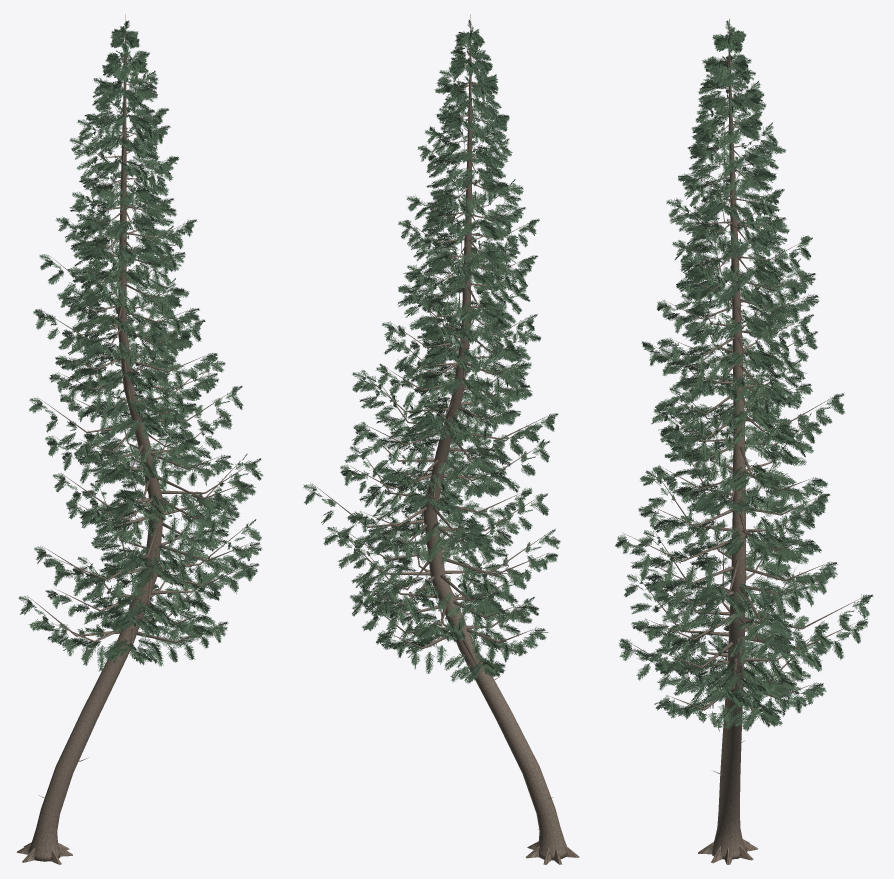
The model's file is SS_Defect_Bent_PostMature_02_LOD1.fbx.
3 renders of one model, left to right at view 1: azimuth 30°, elevation 25°; view 2: azimuth 150°, elevation 25°; view 3: azimuth 270°, elevation 25°, orthographic. The views are drawn at different scales.
Parts seen in each view (by area): view 1: SS_Defect_Bent_PostMature_02_LOD1_Foliage, SS_Defect_Bent_PostMature_02_LOD1_Trunk, SS_Defect_Bent_PostMature_02_LOD1_Branches; view 2: SS_Defect_Bent_PostMature_02_LOD1_Foliage, SS_Defect_Bent_PostMature_02_LOD1_Trunk, SS_Defect_Bent_PostMature_02_LOD1_Branches; view 3: SS_Defect_Bent_PostMature_02_LOD1_Foliage, SS_Defect_Bent_PostMature_02_LOD1_Branches, SS_Defect_Bent_PostMature_02_LOD1_Trunk.
Part boxes in pixels (x1=…): SS_Defect_Bent_PostMature_02_LOD1_Foliage: x1=18, y1=20, x2=263, y2=671; SS_Defect_Bent_PostMature_02_LOD1_Trunk: x1=16, y1=14, x2=164, y2=864; SS_Defect_Bent_PostMature_02_LOD1_Branches: x1=27, y1=36, x2=254, y2=798; SS_Defect_Bent_PostMature_02_LOD1_Foliage: x1=303, y1=20, x2=560, y2=683; SS_Defect_Bent_PostMature_02_LOD1_Trunk: x1=423, y1=14, x2=579, y2=864; SS_Defect_Bent_PostMature_02_LOD1_Branches: x1=310, y1=35, x2=552, y2=829; SS_Defect_Bent_PostMature_02_LOD1_Foliage: x1=615, y1=20, x2=873, y2=731; SS_Defect_Bent_PostMature_02_LOD1_Branches: x1=625, y1=32, x2=859, y2=774; SS_Defect_Bent_PostMature_02_LOD1_Trunk: x1=698, y1=19, x2=757, y2=864.
Size of the model in its own units: 1016 by 3100 by 866.
